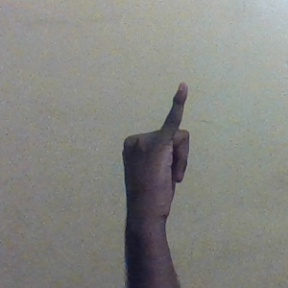I: (120, 80, 196, 219)
